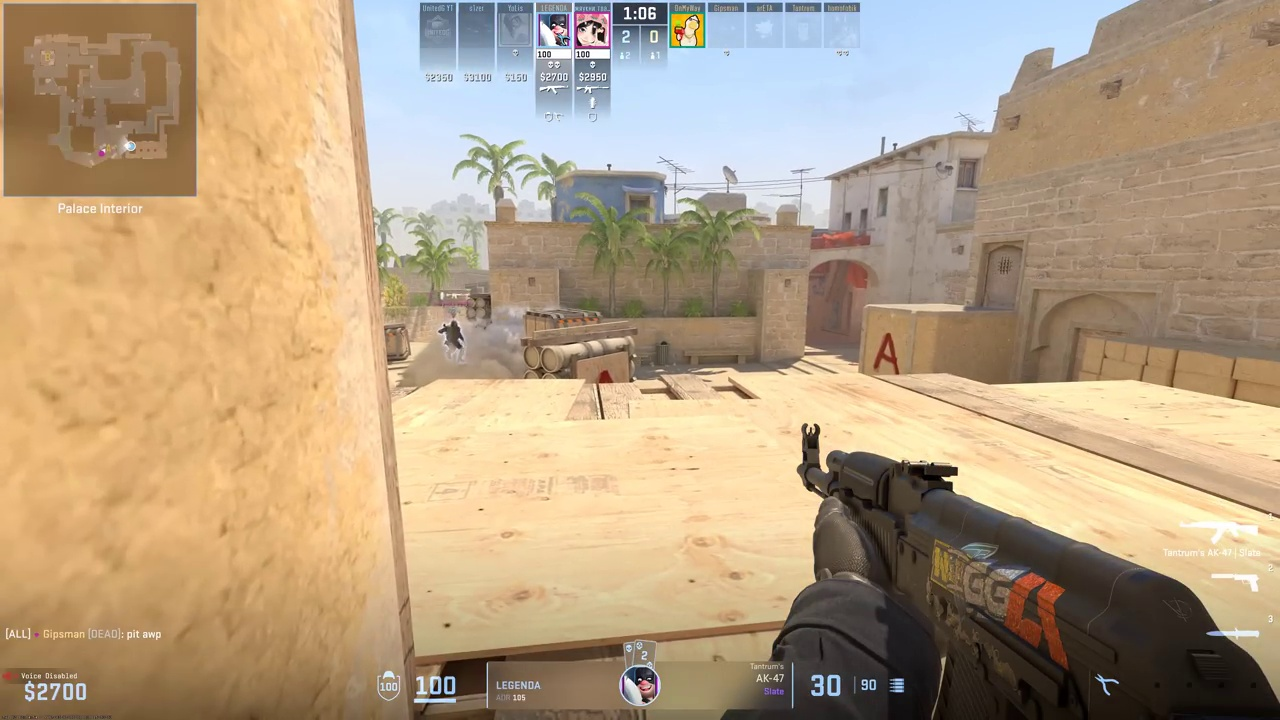CT: (445, 320, 465, 352)
